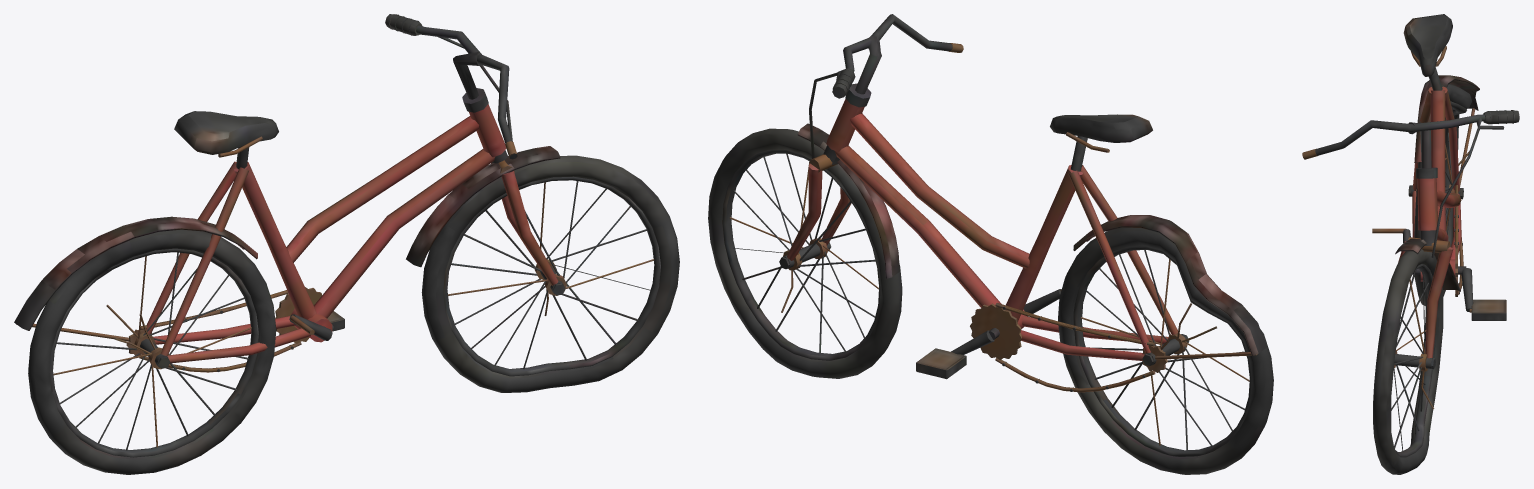
File: JV12_bent_bicycle_v2.glb
The picture shows the model from 3 angles, left to right: view 1: azimuth 30°, elevation 25°; view 2: azimuth 150°, elevation 25°; view 3: azimuth 270°, elevation 25°; orthographic projection. The views are drawn at different scales.
Visible parts, largest first — view 1: Bent step-through; view 2: Bent step-through; view 3: Bent step-through.
Part boxes in pixels (<box>): Bent step-through: <box>14,14,679,474</box>; Bent step-through: <box>708,14,1273,474</box>; Bent step-through: <box>1302,14,1519,474</box>.
Size of the model in its own units: 1.8 by 1.01 by 0.6393.
6 materials, 6 textured.
